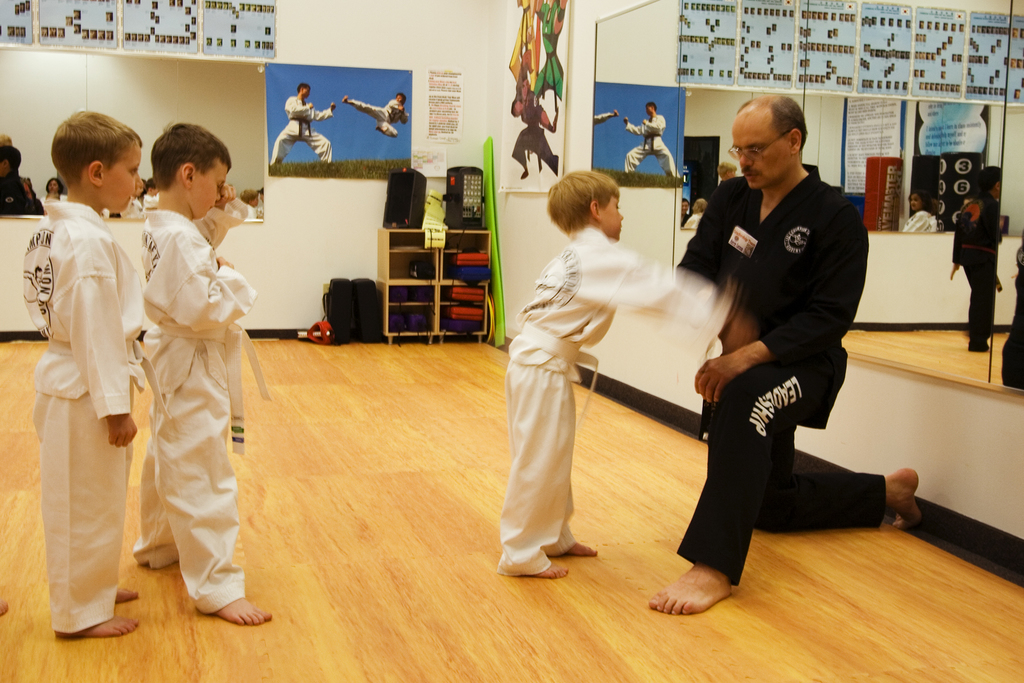Person: (646, 93, 922, 613), (496, 168, 755, 581), (31, 106, 169, 635), (132, 122, 272, 625), (0, 133, 267, 217), (949, 163, 1002, 349), (509, 67, 558, 177), (272, 83, 335, 165), (623, 100, 682, 177), (342, 91, 409, 138), (903, 191, 936, 235), (678, 198, 710, 227), (716, 161, 737, 181), (594, 108, 618, 123)
